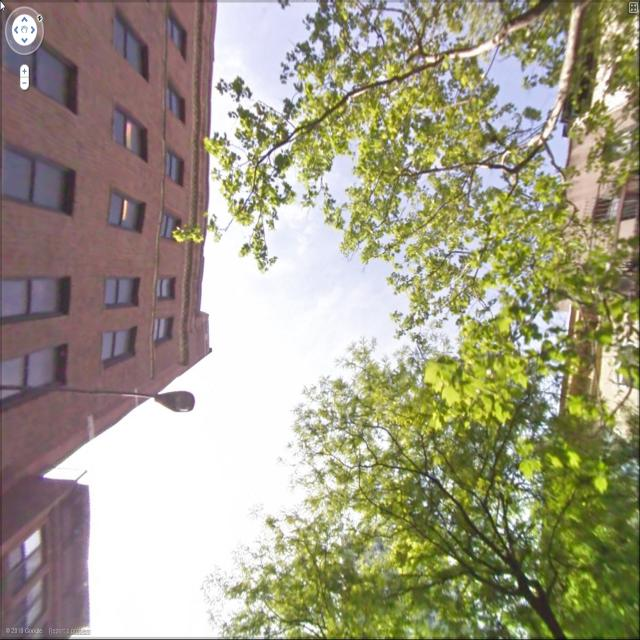b_1: (1, 4, 228, 410)
b_2: (492, 19, 640, 610)
